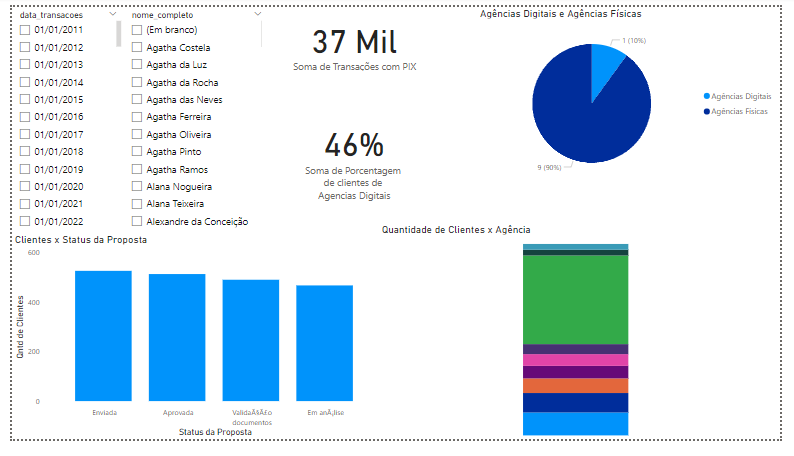

This screenshot's page, from the dashboard's own definition file:
{"tool":"powerbi","page":{"name":"Página 1","canvas":[1280,720],"ordinal":0},"visuals":[{"type":"pieChart","fields":{"Y":["quantidade.Quantidade de Agências Digitais","quantidade.Quantidade de Agências Físicas"]},"box":[774.7,0,505.4,302.4],"z":0},{"type":"slicer","fields":{"Values":["transacoes.data_transacoes"]},"box":[0,0,187.2,384.5],"z":1000},{"type":"slicer","fields":{"Values":["clientes.nome_completo"]},"box":[187,0,242,384],"z":2000},{"type":"card","fields":{"Values":["pix.Transações com PIX"]},"box":[416.2,0,308.2,122.4],"z":3000},{"type":"card","fields":{"Values":["clientes_digitais.Porcentagem de clientes de Agencias Digitais"]},"box":[476.6,106.6,187.2,253.4],"z":4000},{"type":"columnChart","title":"Quantidade de Clientes x Agência","fields":{"Y":["total_clientes.Agencia 1","total_clientes.2","total_clientes.3","total_clientes.4","total_clientes.5","total_clientes.6","total_clientes.7","total_clientes.8","total_clientes.9"]},"box":[612,360,668.2,360],"z":5000},{"type":"clusteredColumnChart","title":"Clientes x Status da Proposta","fields":{"Category":["propostas_credito.status_proposta"],"Y":["propostas_credito.cod_cliente"]},"box":[0,375.8,626.4,344.2],"z":5001}]}

Visuals, with their boxes in screenshot pixels (x1, y1, x2, y2), scaled from the page's 1280x720 canvas onto the 794x456 screenshot:
pieChart - quantidade.Quantidade de Agências Digitais x quantidade.Quantidade de Agências Físicas: l=481, t=0, r=793, b=192
slicer - transacoes.data_transacoes: l=0, t=0, r=116, b=244
slicer - clientes.nome_completo: l=116, t=0, r=266, b=243
card - pix.Transações com PIX: l=258, t=0, r=449, b=78
card - clientes_digitais.Porcentagem de clientes de Agencias Digitais: l=296, t=68, r=412, b=228
"Quantidade de Clientes x Agência" columnChart: l=380, t=228, r=793, b=455
"Clientes x Status da Proposta" clusteredColumnChart: l=0, t=238, r=389, b=455
